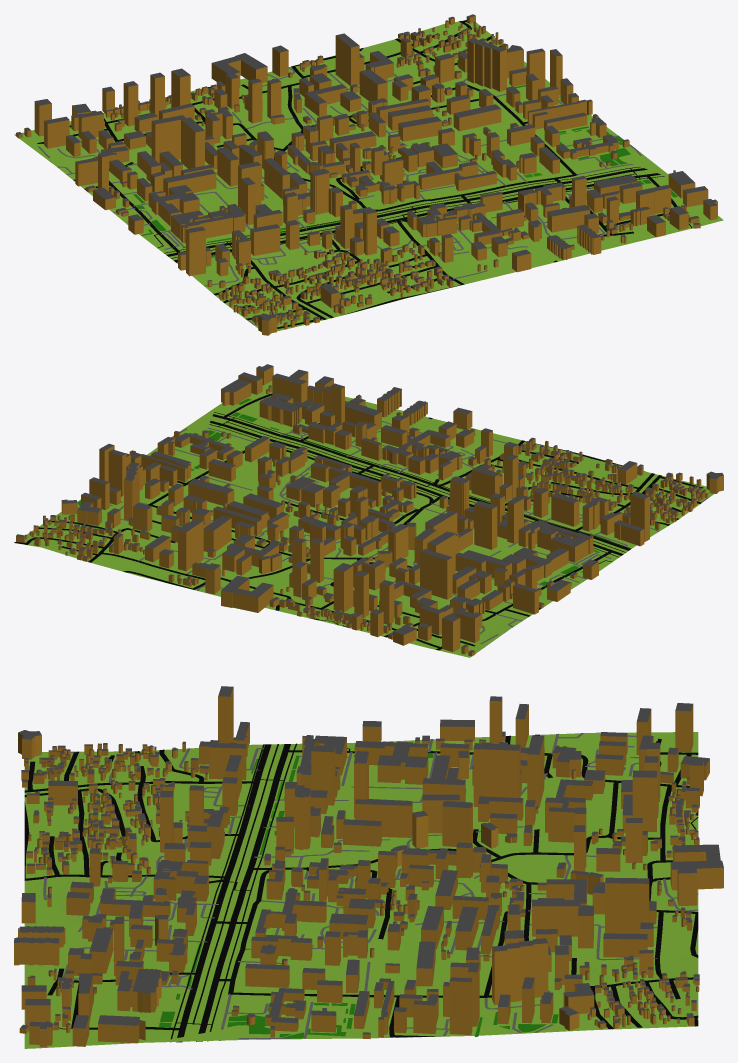
File: tile_09_04.glb
3 renders of one model, top to bottom at view 1: azimuth 30°, elevation 25°; view 2: azimuth 150°, elevation 25°; view 3: azimuth 270°, elevation 25°, orthographic. The views are drawn at different scales.
Parts seen in each view (by area): view 1: Ub_small.osm_buildings_09_04, Terrain_09_04, Ub_small.osm_roads_residential_09_04, Ub_small.osm_roads_service_09_04, Ub_small.osm_roads_trunk_09_04, Ub_small.osm_forest_09_04, Ub_small.osm_paths_footway_09_04; view 2: Ub_small.osm_buildings_09_04, Terrain_09_04, Ub_small.osm_roads_residential_09_04, Ub_small.osm_roads_service_09_04, Ub_small.osm_roads_trunk_09_04, Ub_small.osm_paths_footway_09_04, Ub_small.osm_forest_09_04; view 3: Ub_small.osm_buildings_09_04, Terrain_09_04, Ub_small.osm_roads_residential_09_04, Ub_small.osm_roads_service_09_04, Ub_small.osm_roads_trunk_09_04, Ub_small.osm_forest_09_04, Ub_small.osm_paths_footway_09_04, Ub_small.osm_paths_cycleway_09_04.
Part boxes in pixels (left/top/right/bottom): Ub_small.osm_buildings_09_04: left=16, top=14, right=717, bottom=335; Terrain_09_04: left=14, top=21, right=723, bottom=331; Ub_small.osm_roads_residential_09_04: left=37, top=20, right=677, bottom=328; Ub_small.osm_roads_service_09_04: left=38, top=66, right=641, bottom=325; Ub_small.osm_roads_trunk_09_04: left=166, top=168, right=660, bottom=262; Ub_small.osm_forest_09_04: left=133, top=85, right=677, bottom=256; Ub_small.osm_paths_footway_09_04: left=154, top=166, right=692, bottom=262; Ub_small.osm_buildings_09_04: left=16, top=364, right=723, bottom=656; Terrain_09_04: left=15, top=381, right=714, bottom=657; Ub_small.osm_roads_residential_09_04: left=14, top=393, right=703, bottom=650; Ub_small.osm_roads_service_09_04: left=77, top=421, right=708, bottom=644; Ub_small.osm_roads_trunk_09_04: left=210, top=414, right=630, bottom=555; Ub_small.osm_paths_footway_09_04: left=209, top=412, right=631, bottom=625; Ub_small.osm_forest_09_04: left=78, top=398, right=610, bottom=584; Ub_small.osm_buildings_09_04: left=14, top=686, right=723, bottom=1047; Terrain_09_04: left=24, top=732, right=698, bottom=1048; Ub_small.osm_roads_residential_09_04: left=24, top=734, right=698, bottom=1037; Ub_small.osm_roads_service_09_04: left=43, top=732, right=698, bottom=1040; Ub_small.osm_roads_trunk_09_04: left=176, top=744, right=290, bottom=1042; Ub_small.osm_forest_09_04: left=159, top=749, right=558, bottom=1038; Ub_small.osm_paths_footway_09_04: left=53, top=743, right=698, bottom=1042; Ub_small.osm_paths_cycleway_09_04: left=192, top=744, right=278, bottom=1024.
Bounding box in the file's own units: 996 × 116 × 980.
